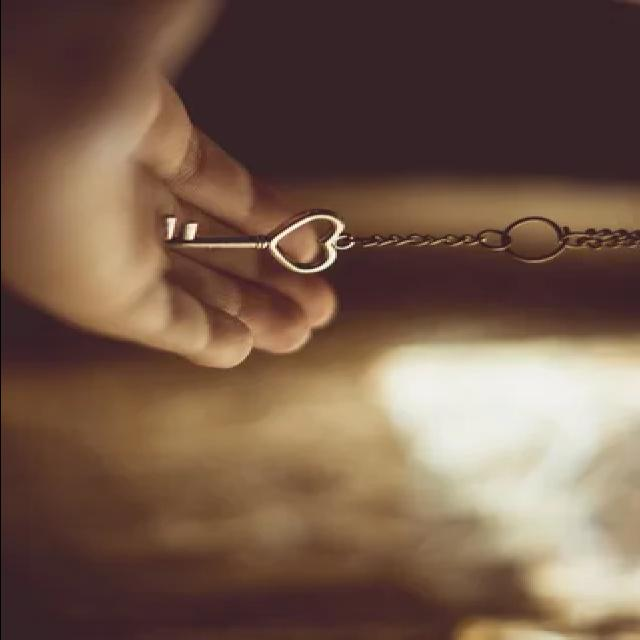key: (148, 210, 391, 294)
